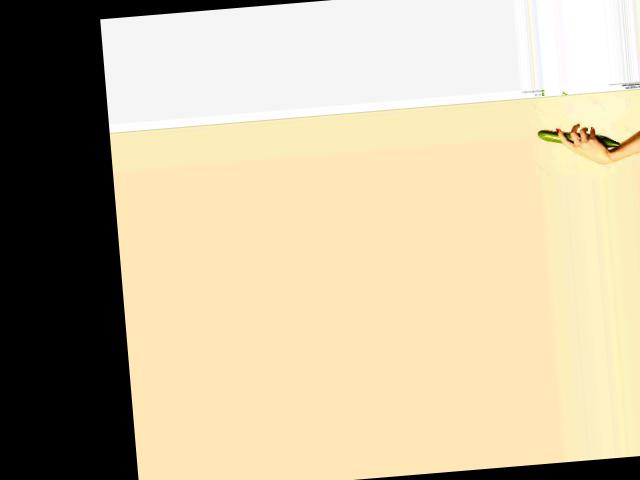cucumber: (537, 122, 621, 152)
